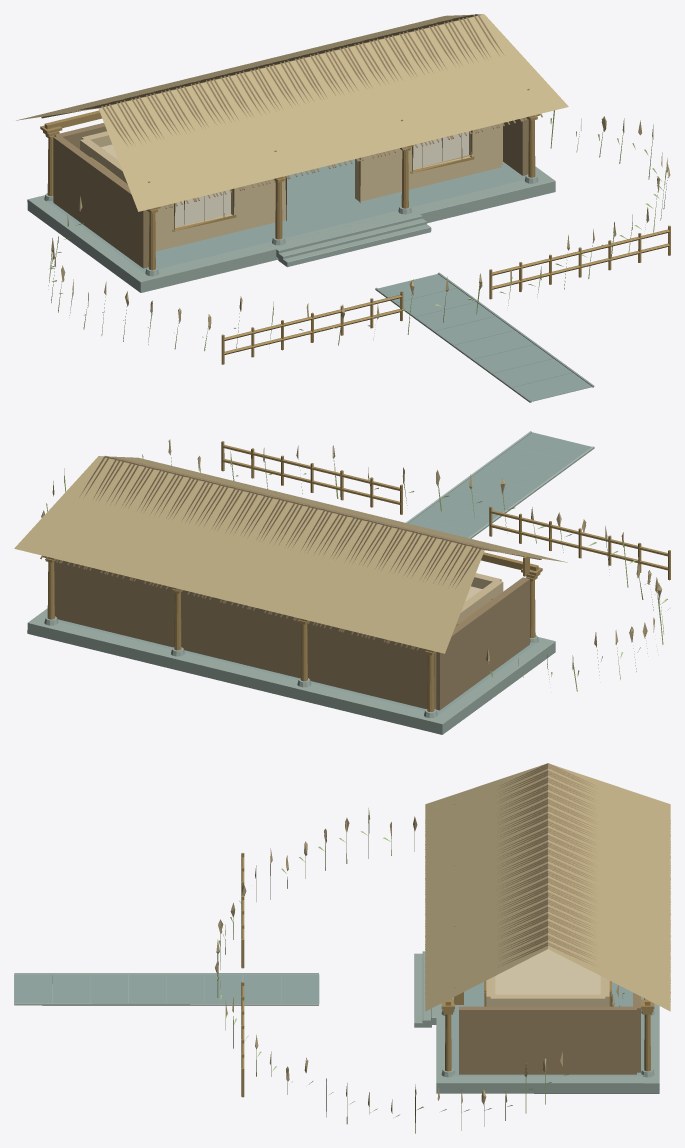
Rendered from luxuean.glb.
The picture shows the model from 3 angles, top to bottom: view 1: azimuth 30°, elevation 25°; view 2: azimuth 150°, elevation 25°; view 3: azimuth 270°, elevation 25°; orthographic projection.
Parts seen in each view (by area): view 1: r15_luxuean_Sunwen_r18_rustic_thatch.001, Mobile_luxuean_paving, r15_luxuean_clay, r15_luxuean_Sunwen_r18_rustic_stone.001, r15_luxuean_Sunwen_r18_rustic_qing_clay.001, r15_luxuean_Sunwen_r18_rustic_rusticwood.001, r15_luxuean_Sunwen_r18_rustic_screen.001, Mobile_luxuean_plants; view 2: r15_luxuean_Sunwen_r18_rustic_thatch.001, r15_luxuean_clay, r15_luxuean_Sunwen_r18_rustic_stone.001, Mobile_luxuean_paving, r15_luxuean_Sunwen_r18_rustic_rusticwood.001, r15_luxuean_Sunwen_r18_rustic_qing_clay.001, Mobile_luxuean_plants; view 3: r15_luxuean_Sunwen_r18_rustic_thatch.001, r15_luxuean_clay, Mobile_luxuean_paving, r15_luxuean_Sunwen_r18_rustic_stone.001, r15_luxuean_Sunwen_r18_rustic_plaster.001, r15_luxuean_Sunwen_r18_rustic_rusticwood.001, r15_luxuean_Sunwen_r18_rustic_qing_clay.001, Mobile_luxuean_plants.
Part boxes in pixels (x1,y1,x2,y2): r15_luxuean_Sunwen_r18_rustic_thatch.001: [16, 14, 670, 329]; Mobile_luxuean_paving: [46, 159, 591, 401]; r15_luxuean_clay: [41, 14, 542, 268]; r15_luxuean_Sunwen_r18_rustic_stone.001: [27, 166, 594, 402]; r15_luxuean_Sunwen_r18_rustic_qing_clay.001: [80, 123, 502, 251]; r15_luxuean_Sunwen_r18_rustic_rusticwood.001: [40, 89, 670, 364]; r15_luxuean_Sunwen_r18_rustic_screen.001: [175, 131, 468, 227]; Mobile_luxuean_plants: [48, 110, 667, 351]; r15_luxuean_Sunwen_r18_rustic_thatch.001: [14, 439, 662, 669]; r15_luxuean_clay: [40, 455, 541, 710]; r15_luxuean_Sunwen_r18_rustic_stone.001: [27, 431, 594, 734]; Mobile_luxuean_paving: [57, 432, 591, 714]; r15_luxuean_Sunwen_r18_rustic_rusticwood.001: [43, 441, 670, 711]; r15_luxuean_Sunwen_r18_rustic_qing_clay.001: [455, 573, 503, 626]; Mobile_luxuean_plants: [46, 453, 668, 691]; r15_luxuean_Sunwen_r18_rustic_thatch.001: [215, 763, 670, 1113]; r15_luxuean_clay: [425, 763, 670, 1074]; Mobile_luxuean_paving: [14, 974, 644, 1076]; r15_luxuean_Sunwen_r18_rustic_stone.001: [14, 951, 659, 1093]; r15_luxuean_Sunwen_r18_rustic_plaster.001: [495, 949, 600, 994]; r15_luxuean_Sunwen_r18_rustic_rusticwood.001: [241, 803, 654, 1097]; r15_luxuean_Sunwen_r18_rustic_qing_clay.001: [486, 976, 609, 1006]; Mobile_luxuean_plants: [217, 815, 624, 1133].
Size of the model in its own units: 26.2 by 6.07 by 25.85.
